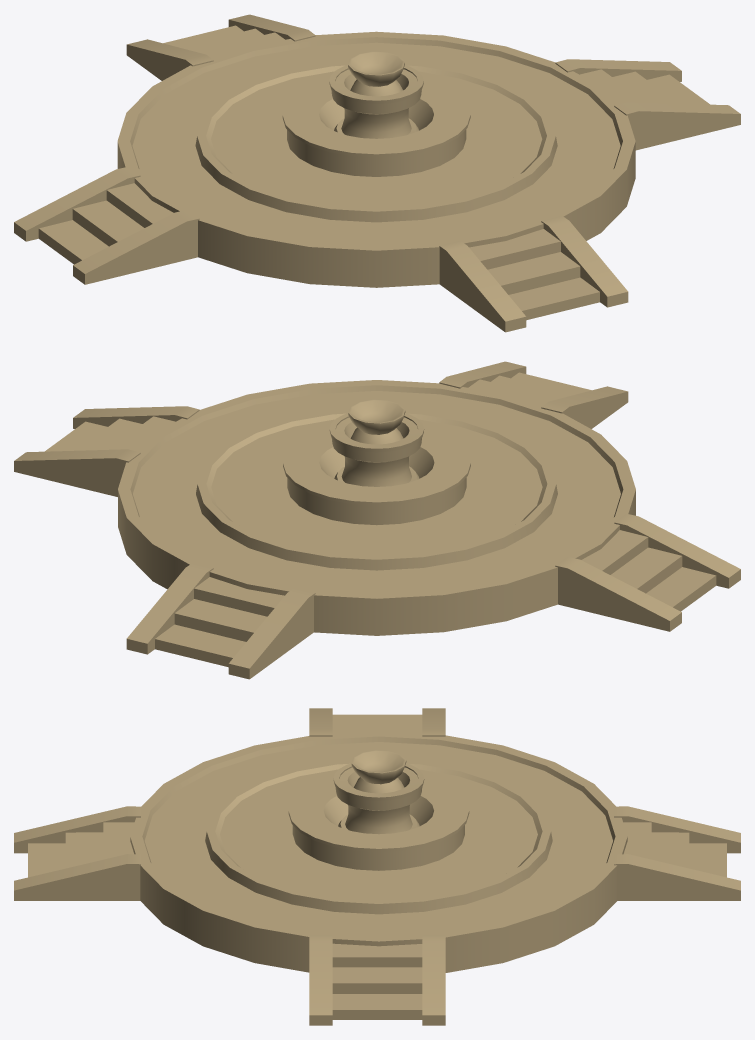
Rendered from SM_Fountain.fbx.
The picture shows the model from 3 angles, top to bottom: view 1: azimuth 30°, elevation 25°; view 2: azimuth 150°, elevation 25°; view 3: azimuth 270°, elevation 25°; orthographic projection. The views are drawn at different scales.
Parts seen in each view (by area): view 1: SM_Fountain; view 2: SM_Fountain; view 3: SM_Fountain.
Part boxes in pixels (x1,y1,x2,y2): SM_Fountain: (14, 14, 740, 332); SM_Fountain: (14, 361, 740, 679); SM_Fountain: (14, 708, 740, 1025).
Size of the model in its own units: 1169 by 196 by 1169.
